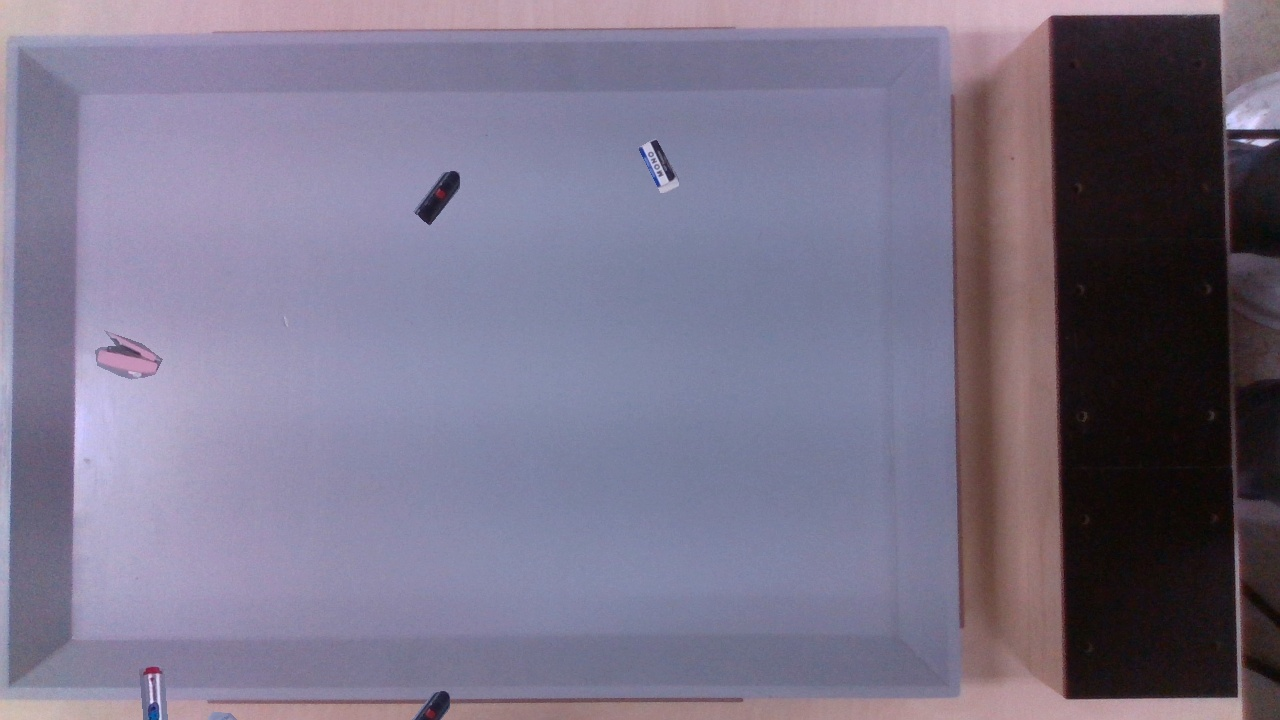Eraser_small: (638, 138, 678, 193)
Glue_pen: (207, 711, 236, 719)
Pen_Marker: (139, 664, 167, 719)
Stapler_pink: (95, 330, 162, 379)
Usb_Big: (412, 170, 459, 719)
